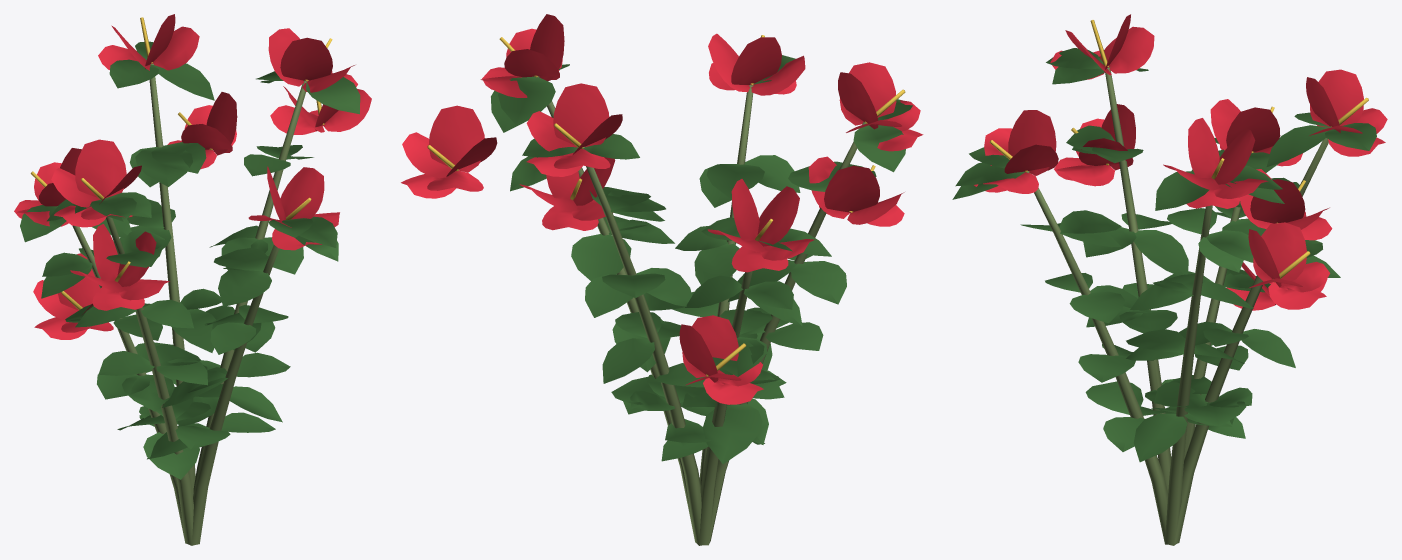
Rendered from hibiscus.glb.
The picture shows the model from 3 angles, left to right: view 1: azimuth 30°, elevation 25°; view 2: azimuth 150°, elevation 25°; view 3: azimuth 270°, elevation 25°; orthographic projection. The views are drawn at different scales.
Visible parts, largest first — view 1: hibiscus; view 2: hibiscus; view 3: hibiscus.
Part boxes in pixels (x1,y1,x2,y2): hibiscus: (14, 14, 371, 545); hibiscus: (401, 14, 923, 545); hibiscus: (952, 14, 1387, 545).
Bounding box in the file's own units: 1.45 × 1.66 × 1.34.
